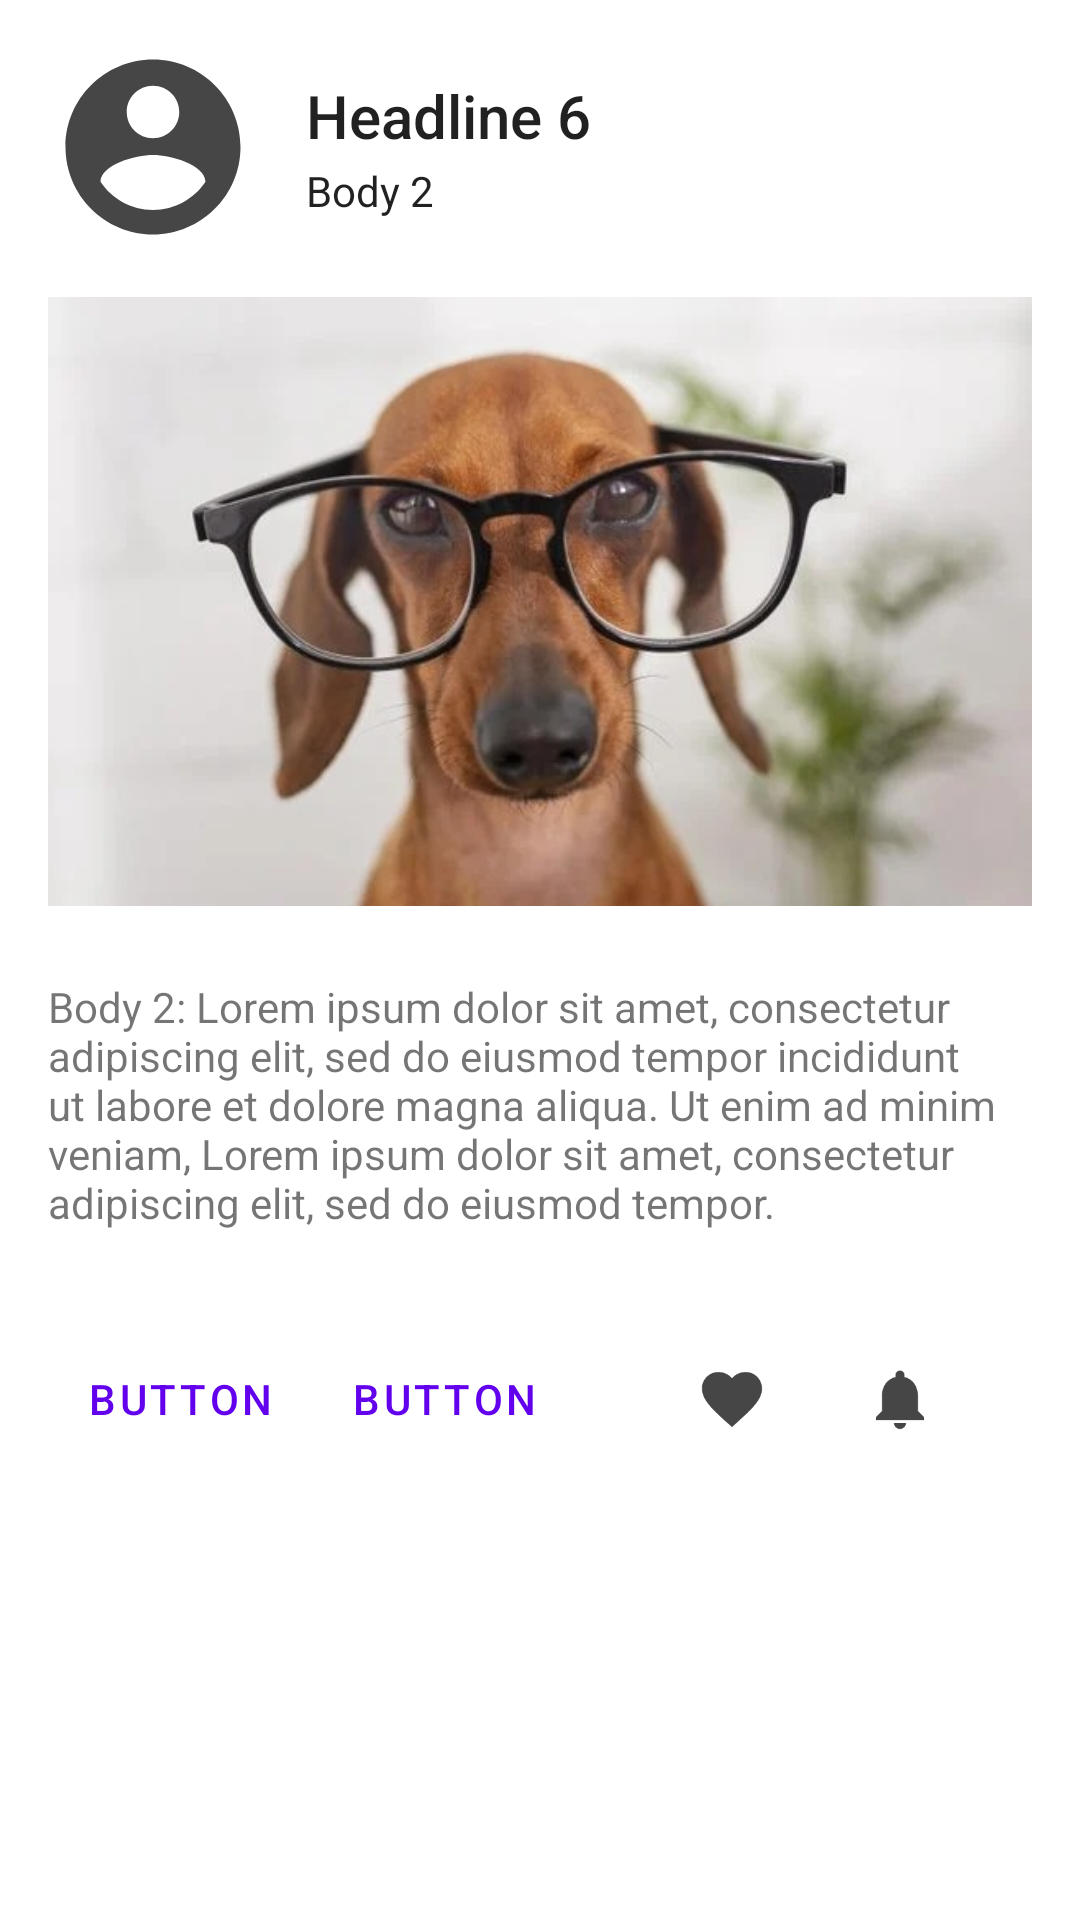

Screen size 1080 × 1920. Icon name, then its center in pixels as (x,y):
favorite: (732,1399)
notifications: (900,1399)
Profile image: (153,147)
